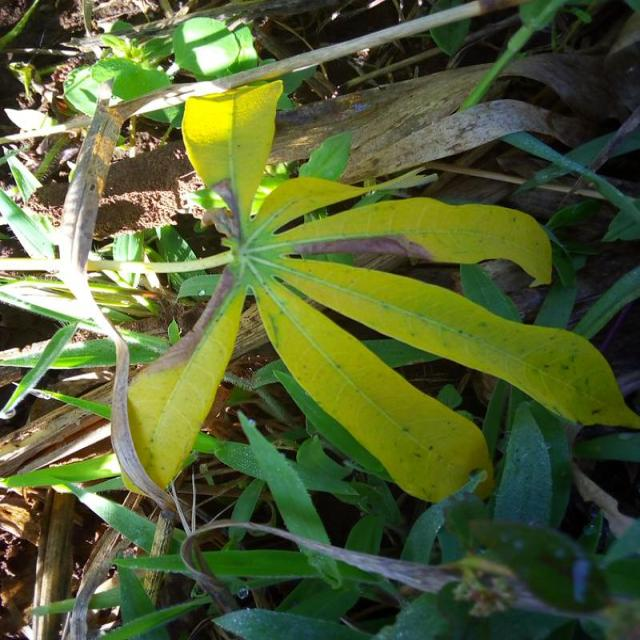cassava leaf: (107, 76, 636, 513)
